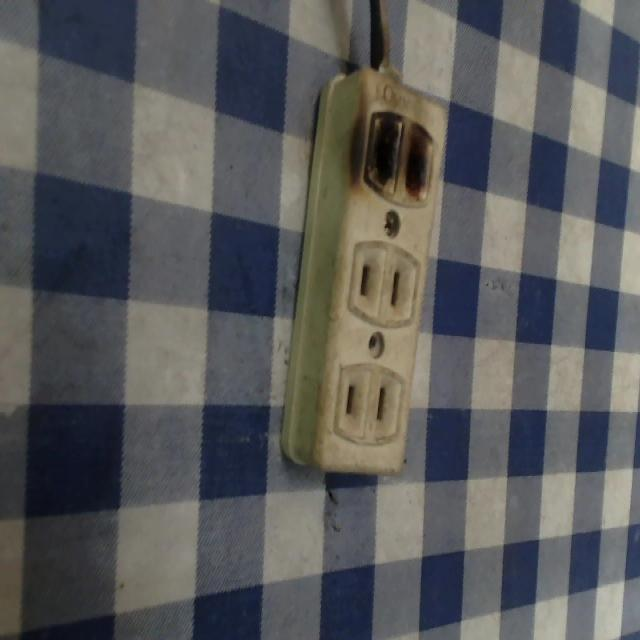-: (358, 103, 441, 209)
